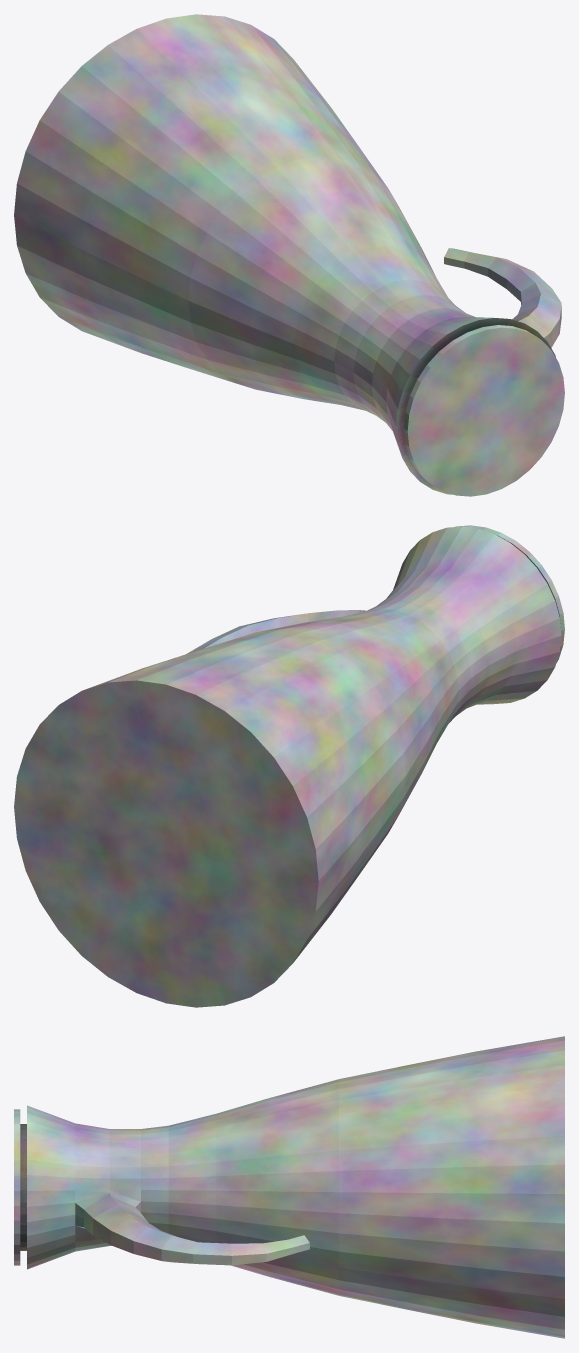
The model's file is coffecan_noise_tex.obj.
3 renders of one model, top to bottom at view 1: azimuth 30°, elevation 25°; view 2: azimuth 150°, elevation 25°; view 3: azimuth 270°, elevation 25°, orthographic. The views are drawn at different scales.
Visible parts, largest first — view 1: coffecan_noise_tex_Cylinder.005; view 2: coffecan_noise_tex_Cylinder.005; view 3: coffecan_noise_tex_Cylinder.005.
Part boxes in pixels (x1,y1,x2,y2): coffecan_noise_tex_Cylinder.005: (14, 14, 564, 496); coffecan_noise_tex_Cylinder.005: (14, 525, 564, 1007); coffecan_noise_tex_Cylinder.005: (14, 1036, 564, 1338).
Bounding box in the file's own units: 0.1385 × 0.1292 × 0.2351.
1 material, 1 textured.
